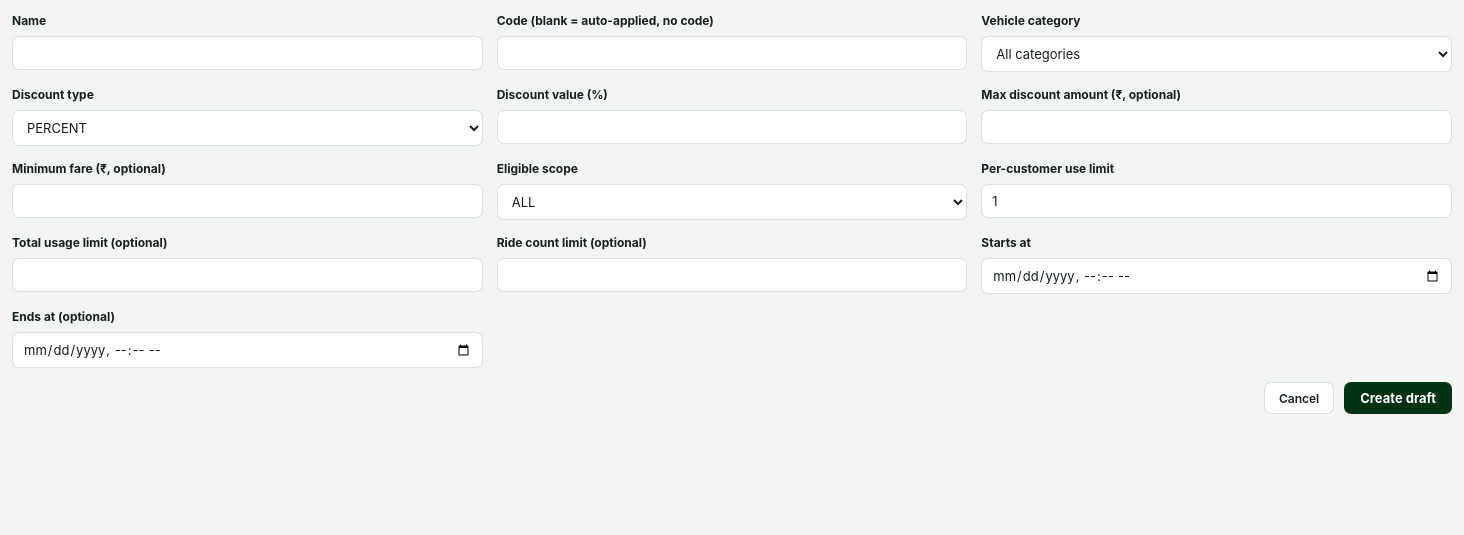
Test case: CampaignForm › only shows the eligible-customer-IDs field when scope is SELECTED
Expected: the field labelled "Eligible customer IDs" is not shown
Select "SELECTED" in the dropdown labelled "Eligible scope": (732, 202) [497, 184, 967, 220]
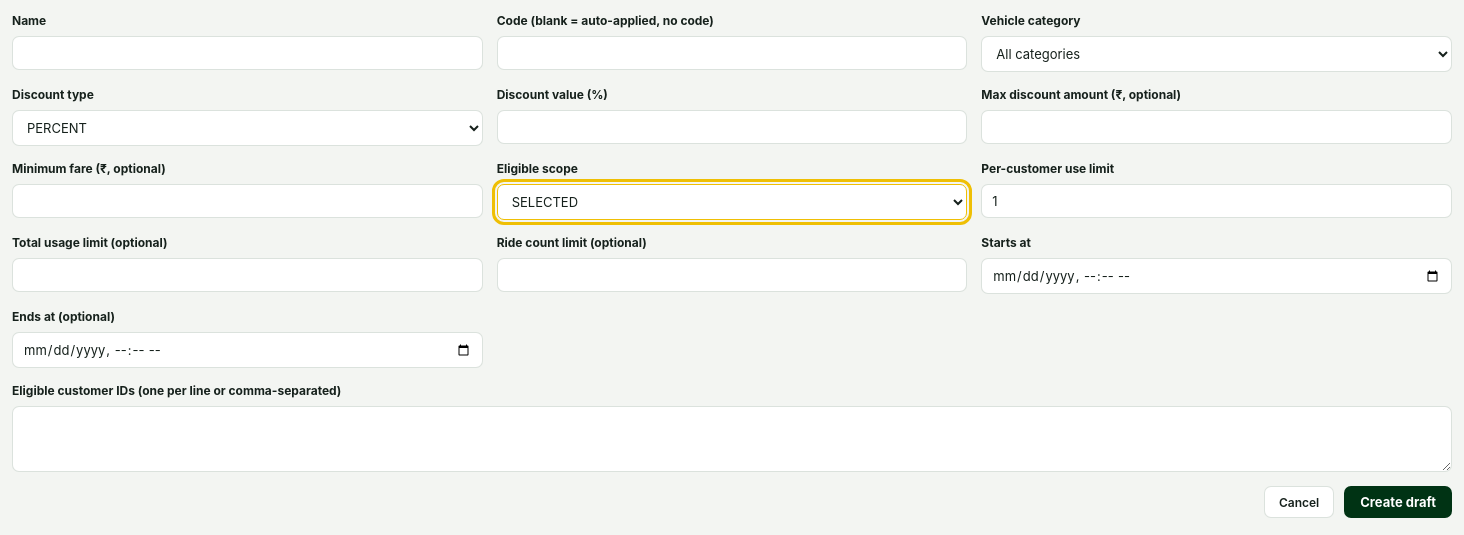
Expected: the text box labelled "Eligible customer IDs (one per line or comma-separated)" is shown, [12, 406, 1452, 472]
